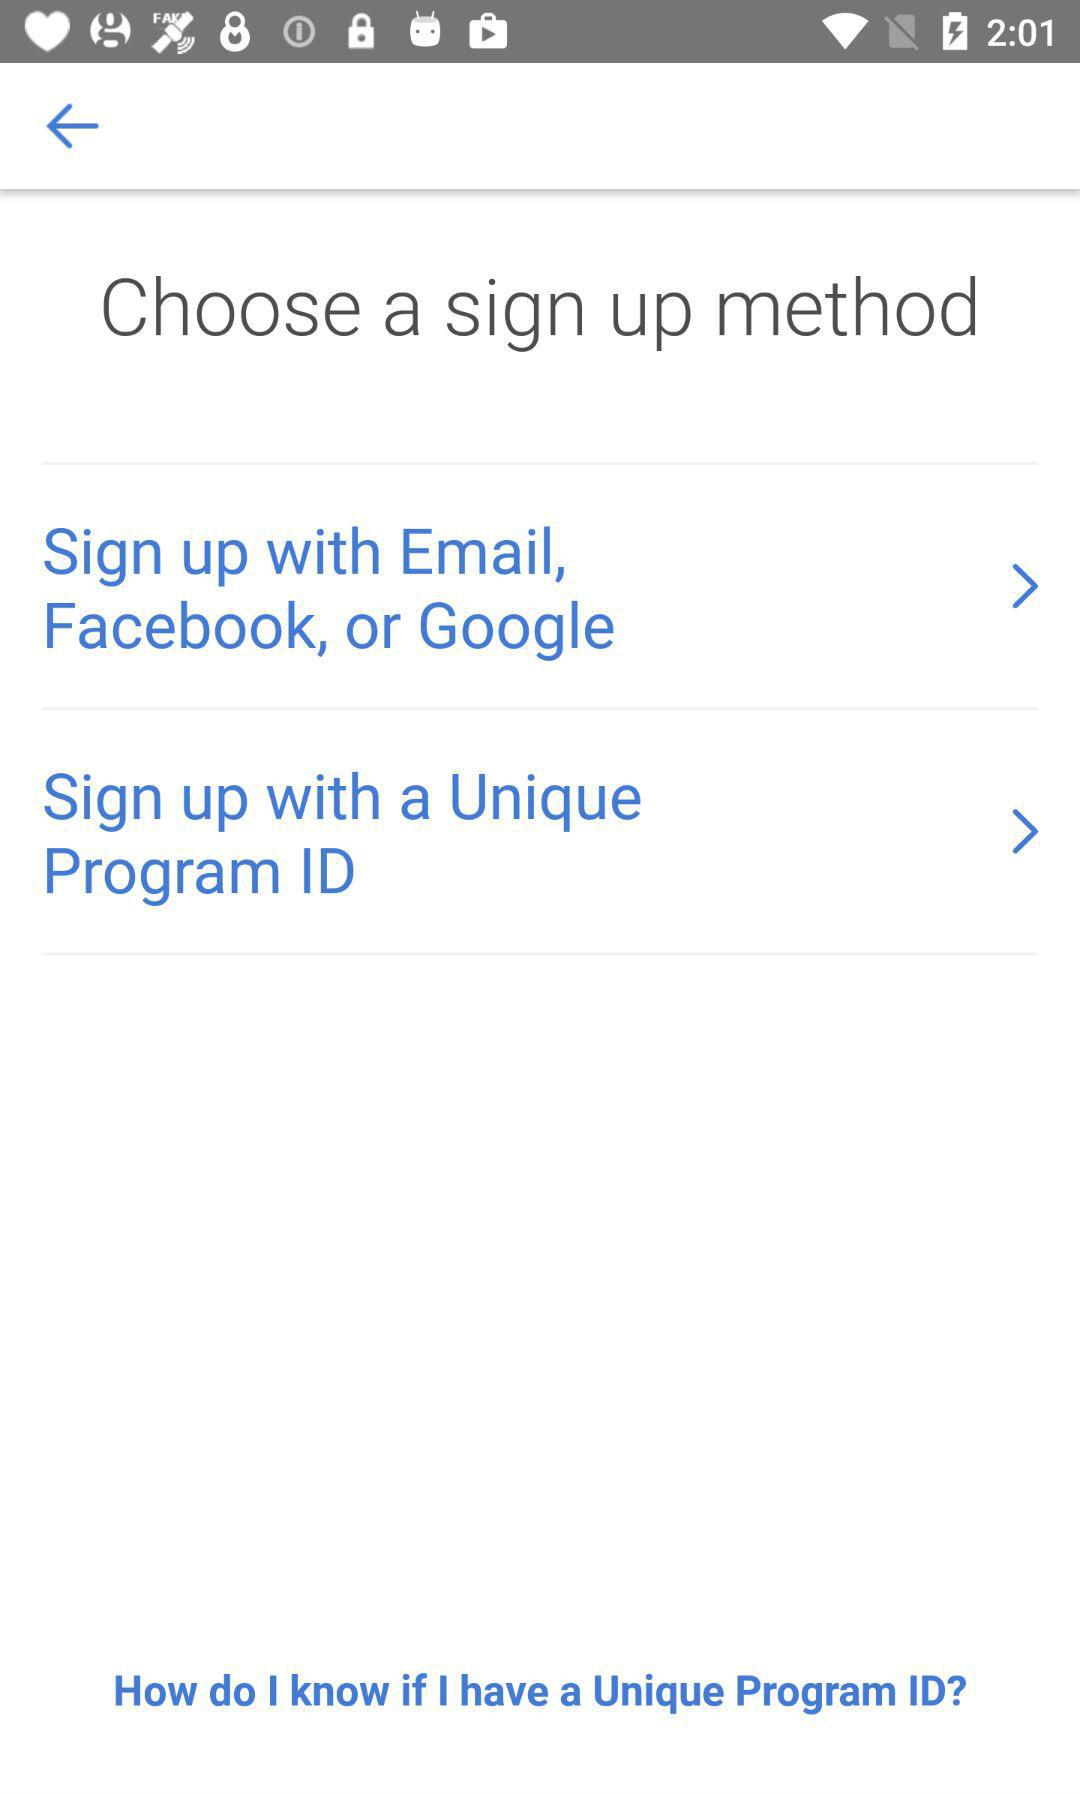Icon: (45, 103, 100, 150), (1011, 564, 1039, 610), (1012, 809, 1039, 855)
Text: (44, 771, 642, 909), (44, 525, 615, 662), (102, 276, 976, 354), (115, 1674, 967, 1716)
Toolbar: (1, 65, 1080, 192)
UpperTaskBar: (1, 1, 1080, 64)
